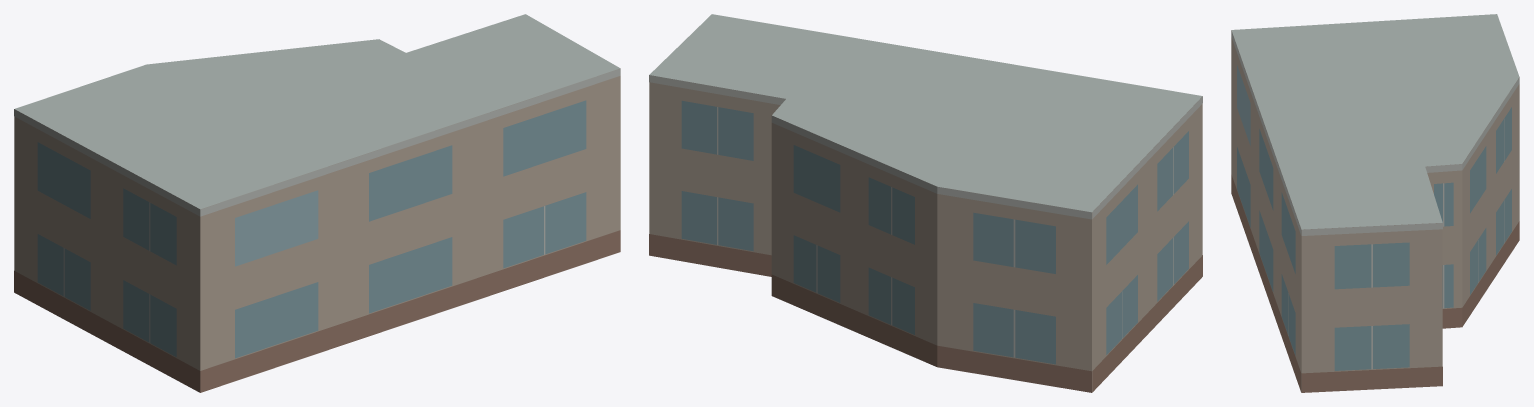
File: survey-upis-32665743.glb
3 views of the same model, side by side, from view 1: azimuth 30°, elevation 25°; view 2: azimuth 150°, elevation 25°; view 3: azimuth 270°, elevation 25° (orthographic). The views are drawn at different scales.
Parts seen in each view (by area): view 1: survey-upis-32665743.tmp; view 2: survey-upis-32665743.tmp; view 3: survey-upis-32665743.tmp.
Boxes of the visible parts, <box> form: survey-upis-32665743.tmp: <box>14,14,620,392</box>; survey-upis-32665743.tmp: <box>649,14,1202,392</box>; survey-upis-32665743.tmp: <box>1231,14,1519,392</box>.
Size of the model in its own units: 17.28 by 6.1 by 9.76.
